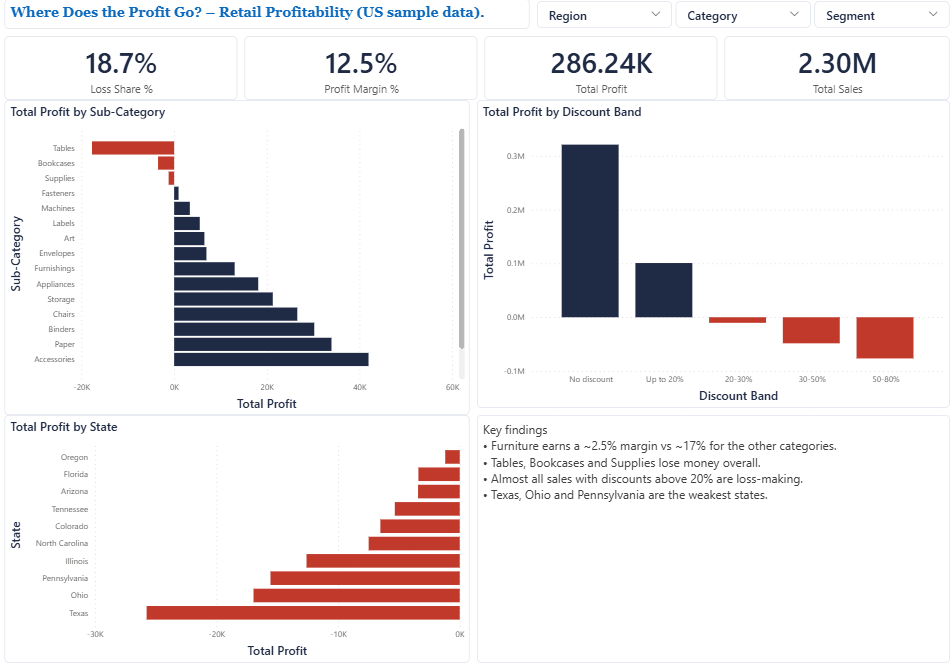

The page's visual inventory and layout, read from the dashboard file:
{"tool":"powerbi","page":{"name":"Page 1","canvas":[1280,900],"ordinal":0},"visuals":[{"type":"card","fields":{"Values":["superstore_clean.Total Sales"]},"box":[970,55,300,85],"z":0},{"type":"card","fields":{"Values":["superstore_clean.Total Profit"]},"box":[650,55,310,85],"z":1000},{"type":"card","fields":{"Values":["superstore_clean.Profit Margin %"]},"box":[330,55,310,85],"z":2000},{"type":"card","fields":{"Values":["superstore_clean.Loss Share %"]},"box":[10,55,310,85],"z":3000},{"type":"clusteredColumnChart","fields":{"Category":["superstore_clean.Discount Band"],"Y":["superstore_clean.Total Profit"]},"box":[640,140,630,410],"z":4000},{"type":"clusteredBarChart","fields":{"Category":["superstore_clean.Sub-Category"],"Y":["superstore_clean.Total Profit"]},"box":[10,140,620,420],"z":5000},{"type":"clusteredBarChart","fields":{"Category":["superstore_clean.State"],"Y":["superstore_clean.Total Profit"]},"box":[10,560,620,330],"z":6000},{"type":"slicer","fields":{"Values":["superstore_clean.Segment"]},"box":[1090,8,180,35],"z":8000},{"type":"slicer","fields":{"Values":["superstore_clean.Region"]},"box":[720,8,180,35],"z":9000},{"type":"slicer","fields":{"Values":["superstore_clean.Category"]},"box":[905,8,180,35],"z":10000},{"type":"textbox","box":[640,560,630,330],"z":11000},{"type":"textbox","box":[10,5,700,40],"z":12000}]}

Visuals, with their boxes in screenshot pixels (x1, y1, x2, y2), scaled from the page's 1280x900 canvas onto the 952x664 screenshot:
card - superstore_clean.Total Sales: 721,41,945,103
card - superstore_clean.Total Profit: 483,41,714,103
card - superstore_clean.Profit Margin %: 245,41,476,103
card - superstore_clean.Loss Share %: 7,41,238,103
clusteredColumnChart - superstore_clean.Discount Band x superstore_clean.Total Profit: 476,103,945,406
clusteredBarChart - superstore_clean.Sub-Category x superstore_clean.Total Profit: 7,103,469,413
clusteredBarChart - superstore_clean.State x superstore_clean.Total Profit: 7,413,469,657
slicer - superstore_clean.Segment: 811,6,945,32
slicer - superstore_clean.Region: 536,6,669,32
slicer - superstore_clean.Category: 673,6,807,32
textbox: 476,413,945,657
textbox: 7,4,528,33
